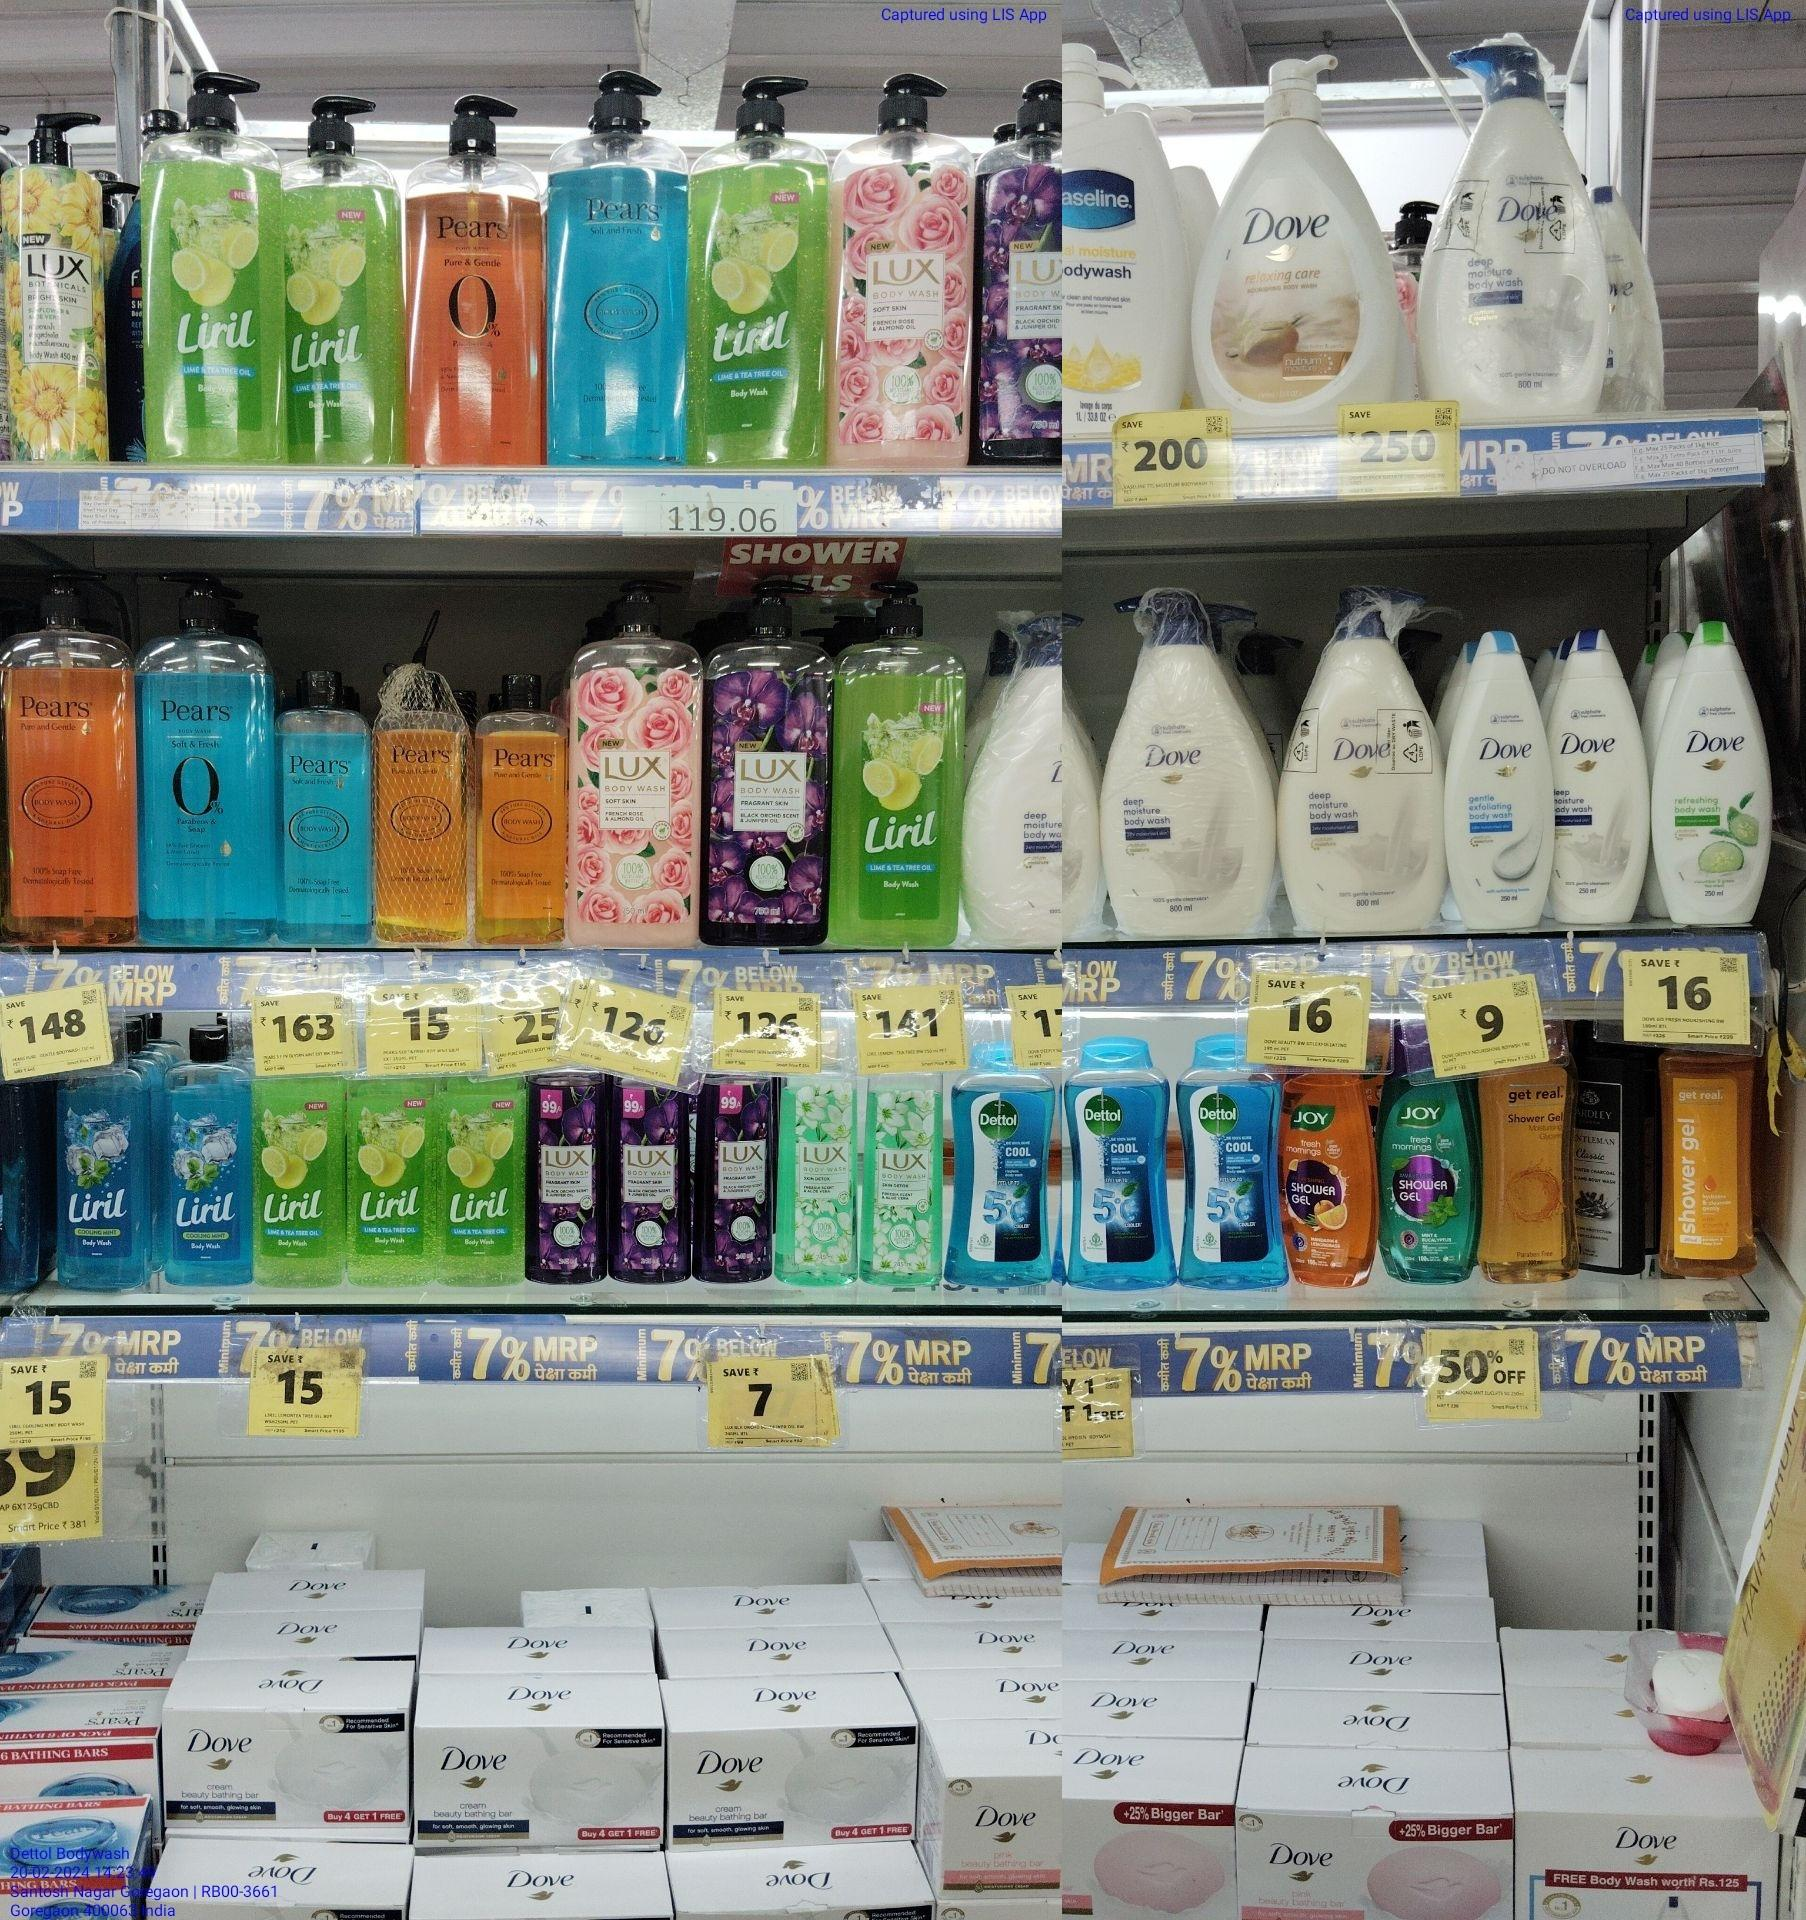Dettol_Bodywash_Cool: (1068, 1039, 1171, 1290), (1176, 1034, 1271, 1288), (947, 1069, 1052, 1287)
Dove_Deep_Moisture_Body_Wash_250ML: (1558, 632, 1646, 927)
Dove_Gentle_Exfoliating_Body_Wash_250ML: (1446, 628, 1553, 930)
Dove_Refreshing_Body_Wash_250ML: (1655, 620, 1774, 924)
Get_Real_Shower_Gel_Moisturising_Glycerin_300ML: (1480, 1068, 1580, 1285)
Joy_Shower_Gel_Mandarin_and_Lemongrass_250ML: (1283, 1073, 1371, 1287)
Joy_Shower_Gel_Mint_and_Eucalyptus_250ML: (1377, 1073, 1475, 1282)
Liril_Cooling_Mint_Body_Wash_250ML: (161, 1022, 244, 1287), (56, 1071, 149, 1288)
Liril_Lime_and_Tea_Tree_Oil_Body_Wash_250ML: (250, 1073, 341, 1288), (343, 1076, 435, 1287), (438, 1071, 524, 1287)
Lux_Black_Orchid_Scent_and_Juniper_Oil_Body_Wash_245ML: (608, 1073, 691, 1283), (528, 1073, 603, 1282), (696, 1078, 771, 1282)
Lux_Body_Wash_Skin_Detox_Freesia_Scent_and_Alove_Vera_245ML: (862, 1078, 942, 1287), (777, 1078, 852, 1283)
Pears_Pure_Glycerin_and_Mint_Extracts_Body_Wash_250ML: (277, 665, 370, 946)
